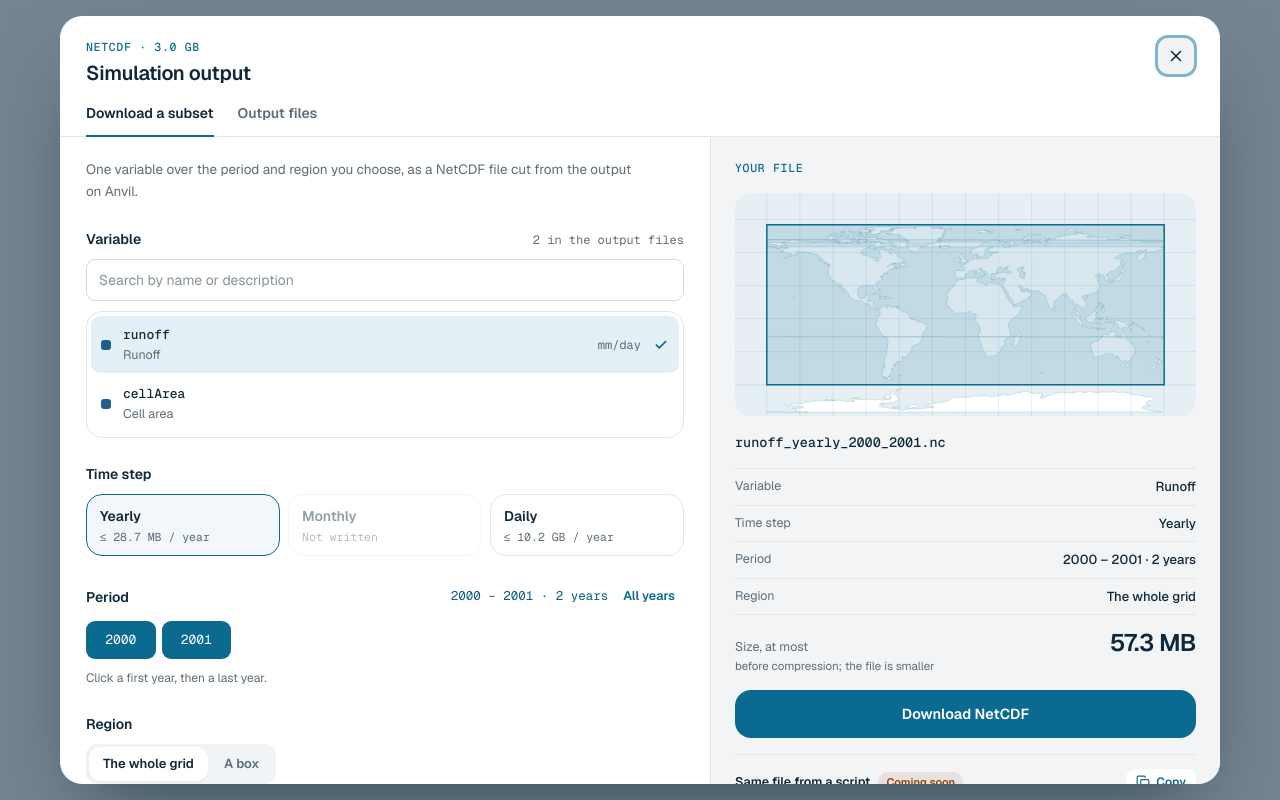
Test: the subset tab › lists the inventory's variables, searchable, with the metadata's name for one the inventory leaves unnamed
Expected: the text "2 in the output files" is shown, top-left (533, 232), bottom-right (684, 248)
Expected: the radio button with aria-label "runoff, Runoff, mm/day" is shown, top-left (91, 316), bottom-right (679, 373)
In the search field named "Search variables": (385, 280) top-left (86, 259), bottom-right (684, 301), type "cell"
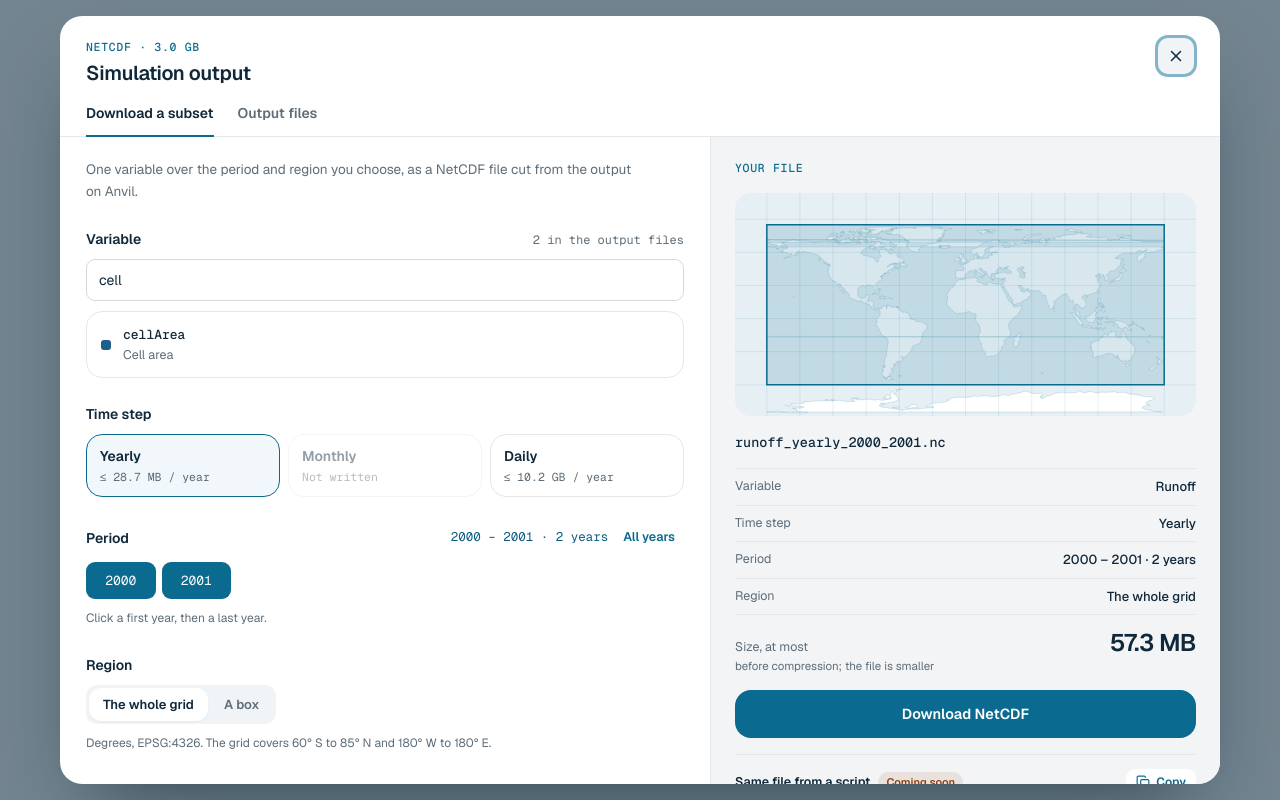
Replace the text in the search field named "Search variables" with "zzz": (385, 280) top-left (86, 259), bottom-right (684, 301)
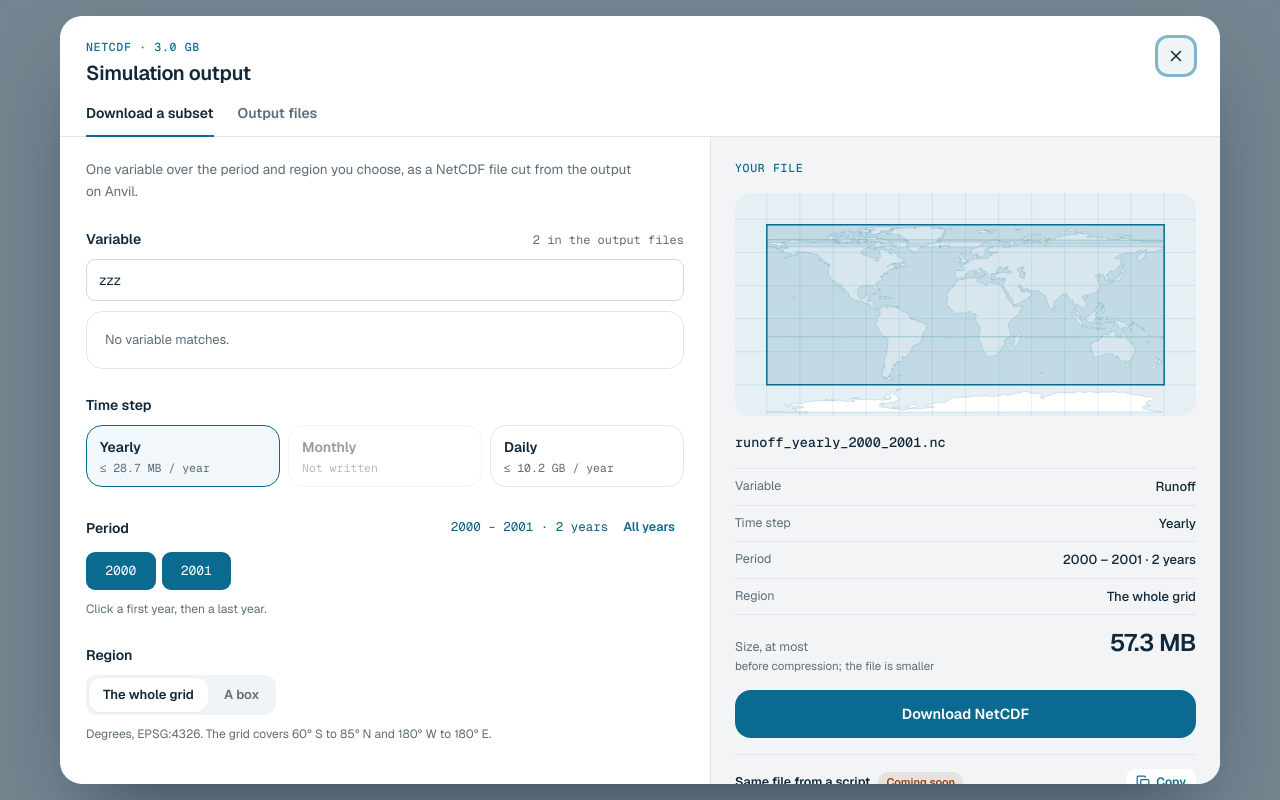
Expected: the text "No variable matches." is shown, top-left (105, 331), bottom-right (229, 348)
